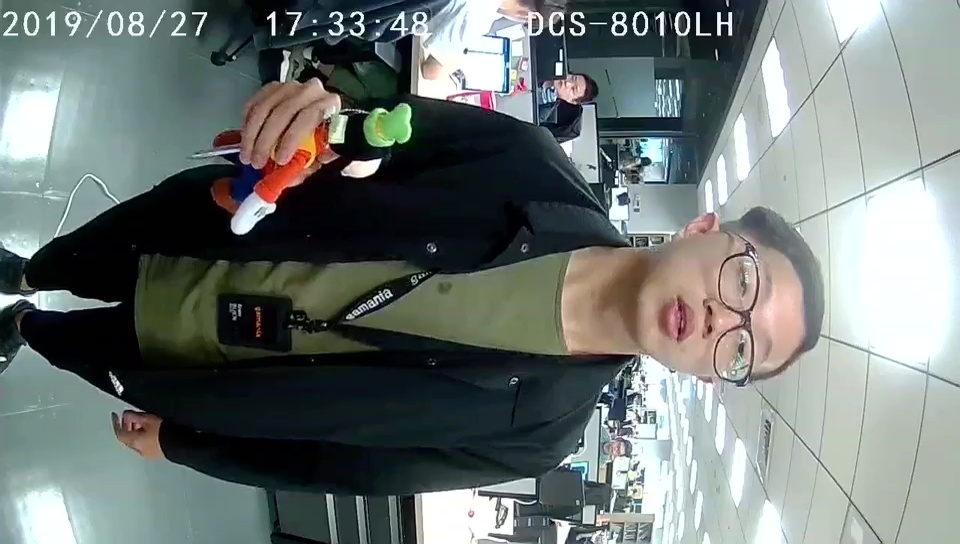goofy: (215, 103, 415, 237)
